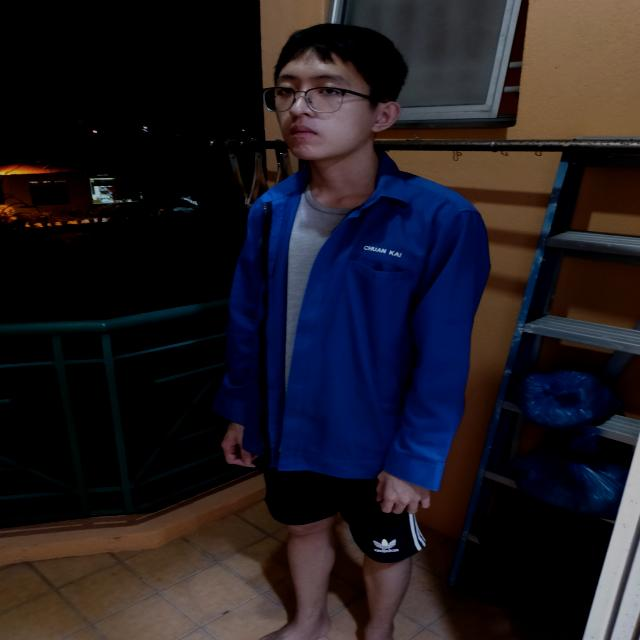person_with_labcoat: (212, 24, 490, 640)
